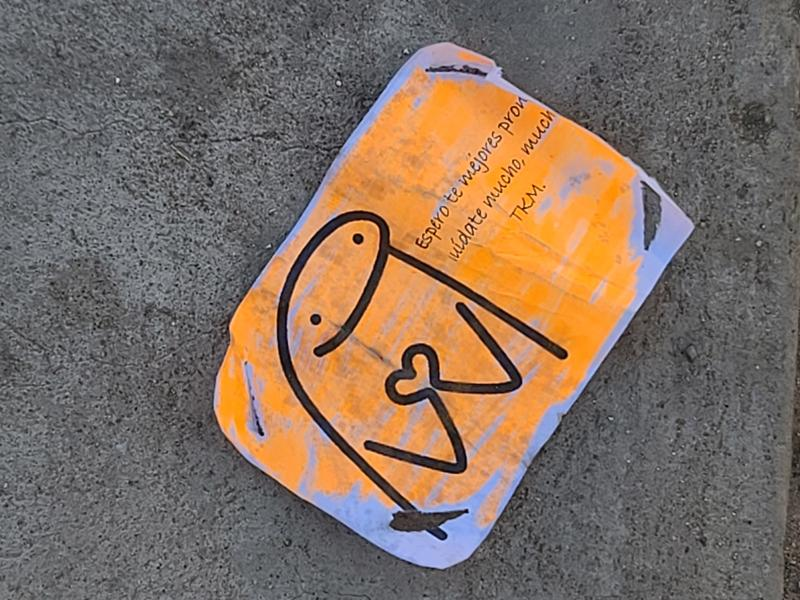papel: (213, 43, 695, 572)
